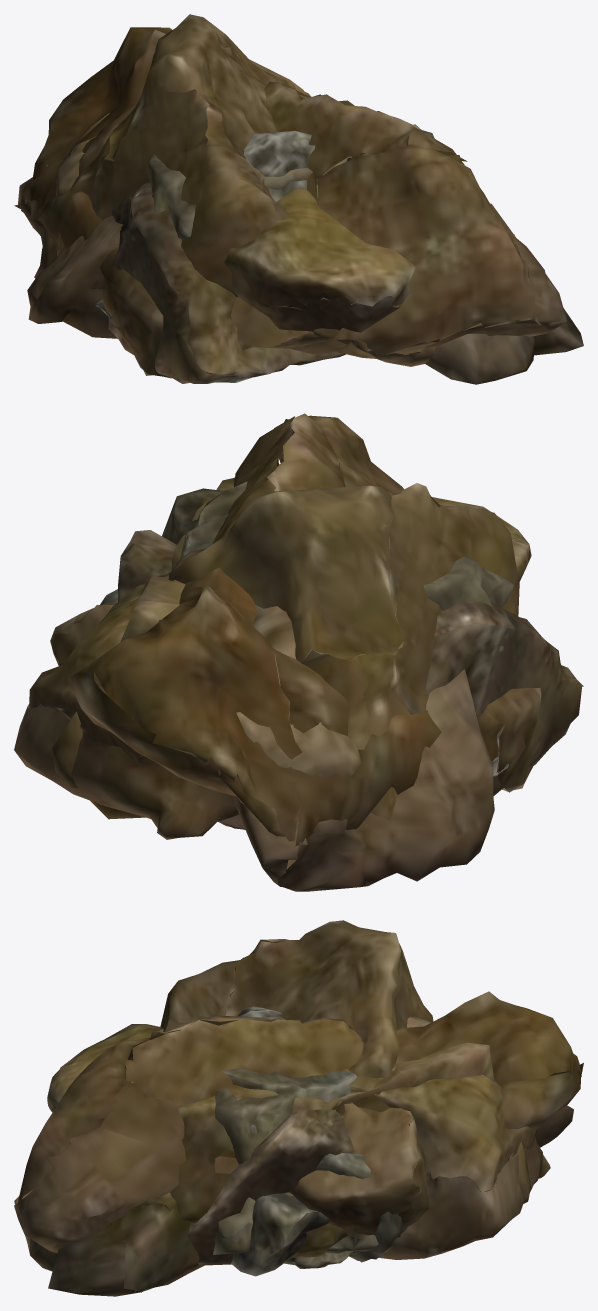
The model's file is rocks.glb.
The picture shows the model from 3 angles, top to bottom: view 1: azimuth 30°, elevation 25°; view 2: azimuth 150°, elevation 25°; view 3: azimuth 270°, elevation 25°; orthographic projection. The views are drawn at different scales.
Visible parts, largest first — view 1: rock_0, rock_3, rock_4, rock_2, rock_1, rock_12, rock_10, rock_5; view 2: rock_0, rock_3, rock_1, rock_4, rock_2, rock_12, rock_5; view 3: rock_0, rock_3, rock_4, rock_1, rock_5, rock_2, rock_12, rock_9, rock_10, rock_6, rock_8.
Part boxes in pixels (x1,y1,x2,y2): rock_0: (22,27,566,378); rock_3: (57,14,321,297); rock_4: (56,92,415,354); rock_2: (108,124,421,383); rock_1: (14,110,583,384); rock_12: (131,111,434,240); rock_10: (244,130,348,201); rock_5: (249,59,437,366); rock_0: (67,413,541,845); rock_3: (50,483,519,820); rock_1: (233,603,494,891); rock_4: (14,497,531,839); rock_2: (118,530,583,829); rock_12: (162,481,513,653); rock_5: (52,478,499,819); rock_0: (14,991,583,1253); rock_3: (160,920,433,1237); rock_4: (47,1024,550,1259); rock_1: (25,1016,573,1296); rock_5: (99,1042,530,1257); rock_2: (188,1108,355,1265); rock_12: (213,996,356,1254); rock_9: (231,1193,329,1276); rock_10: (232,1006,416,1262); rock_6: (325,1234,378,1253); rock_8: (292,1251,353,1268).
Bounding box in the file's own units: 2.64 × 1.77 × 3.39.
Materials: 2 (2 with a texture image).
